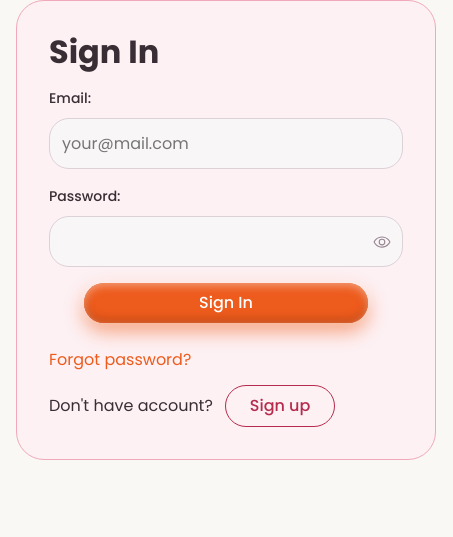
Test case: Login › switches to sign-up form when mode changes
What coordinates should you click on to do the following:
click the button with test id "change-mode"
I would click on:
 (280, 406)
Its box is [225, 385, 335, 427].
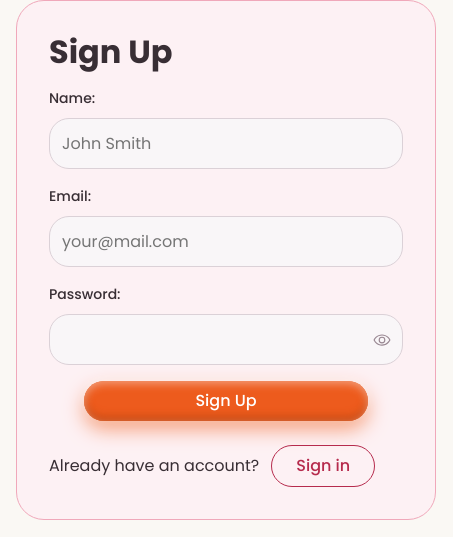
Result: the form named "Sign up form" is shown at [49, 87, 403, 421]
